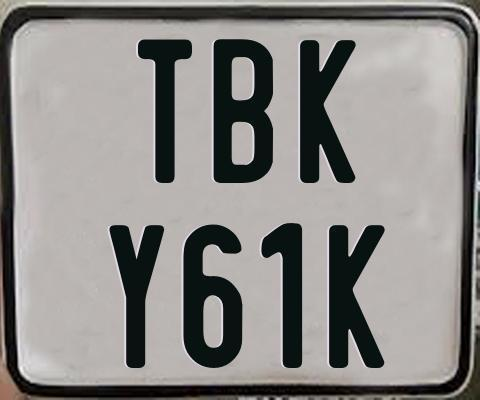1: (259, 221, 306, 372)
6: (181, 224, 242, 368)
B: (211, 38, 276, 184)
K: (326, 223, 385, 366), (299, 39, 356, 183)
T: (136, 39, 194, 186)
Y: (108, 225, 168, 371)
